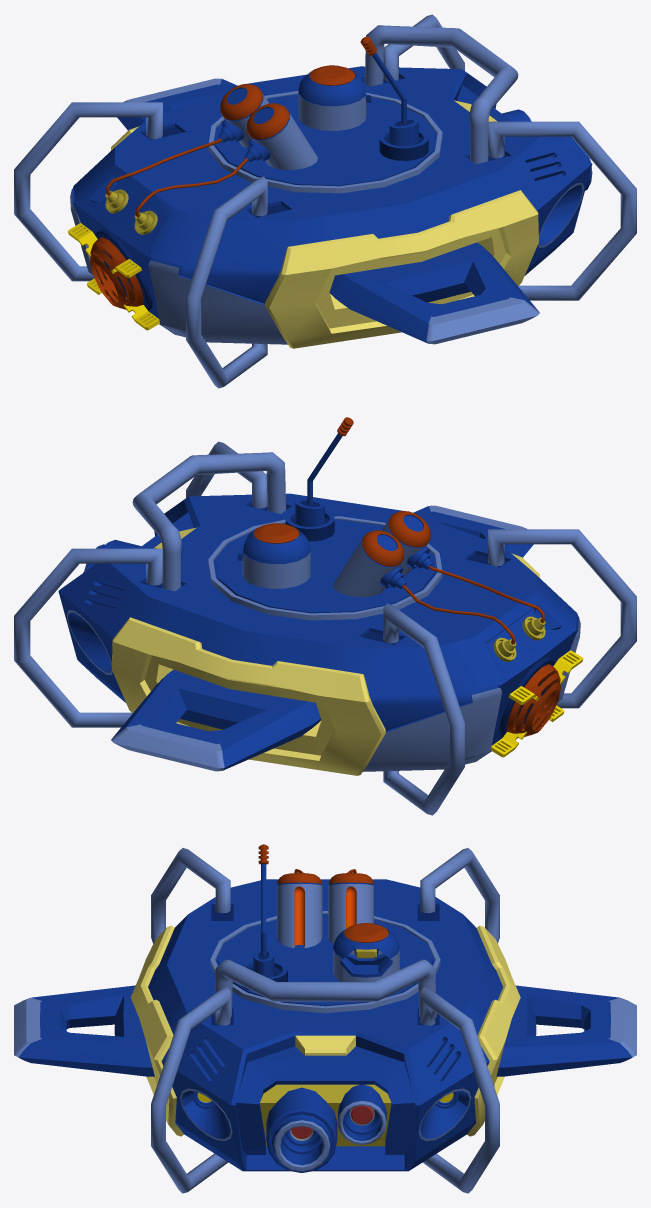
The model's file is Drone_02.fbx.
The picture shows the model from 3 angles, top to bottom: view 1: azimuth 30°, elevation 25°; view 2: azimuth 150°, elevation 25°; view 3: azimuth 270°, elevation 25°; orthographic projection. The views are drawn at different scales.
Visible parts, largest first — view 1: Drone_02; view 2: Drone_02; view 3: Drone_02.
Part boxes in pixels (x1,y1,x2,y2): Drone_02: (14, 14, 636, 388); Drone_02: (14, 417, 636, 815); Drone_02: (14, 844, 636, 1193).
Size of the model in its own units: 23.16 by 12.91 by 27.26.
